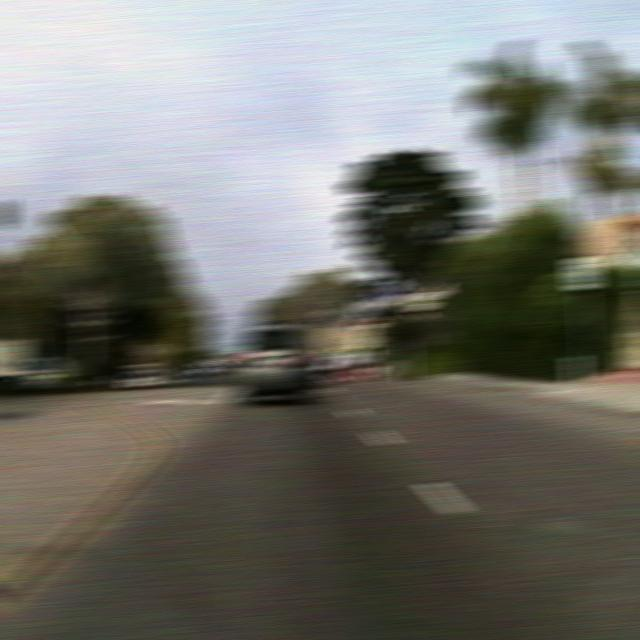speedLimit40: (567, 254, 598, 290)
